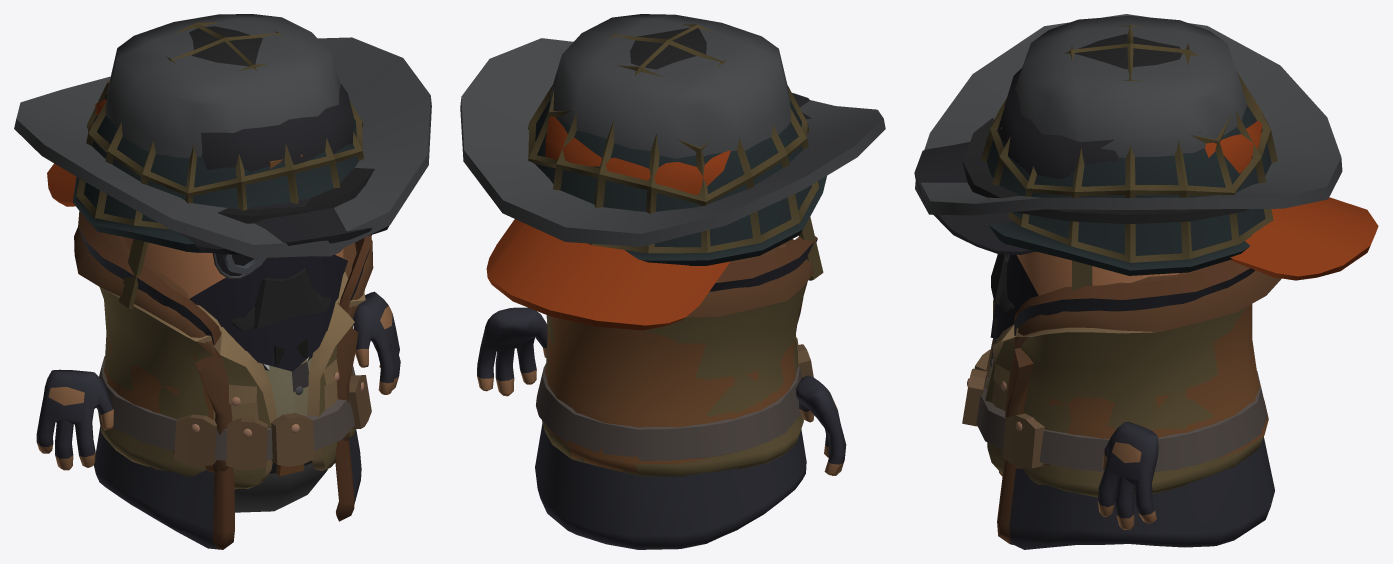
Rendered from Characters.fbx.
The picture shows the model from 3 angles, left to right: view 1: azimuth 30°, elevation 25°; view 2: azimuth 150°, elevation 25°; view 3: azimuth 270°, elevation 25°; orthographic projection. The views are drawn at different scales.
Visible parts, largest first — view 1: Character_Cap_02, Shirt_04, Character_Cap_05, Shirt_02, Character_Cap_01, Shirt_01, Moustache_03, Hand_01_R, Character_Base, Character_Cap_03, Hand_01_L, Moustache_02 (+2 smaller); view 2: Character_Cap_02, Shirt_04, Character_Cap_05, Shirt_02, Shirt_01, Character_Cap_04, Hand_01_L, Hand_01_R, Character_Cap_03; view 3: Character_Cap_02, Shirt_04, Character_Cap_05, Shirt_02, Shirt_01, Character_Cap_04, Character_Cap_01, Character_Cap_03, Hand_01_L, Character_Base, Moustache_03, Moustache_02.
Part boxes in pixels (x1,y1,x2,y2): Character_Cap_02: [14, 14, 431, 258]; Shirt_04: [98, 253, 371, 489]; Character_Cap_05: [72, 22, 363, 309]; Shirt_02: [78, 211, 371, 549]; Character_Cap_01: [178, 83, 389, 254]; Shirt_01: [74, 226, 373, 472]; Moustache_03: [189, 254, 347, 371]; Hand_01_R: [36, 369, 113, 470]; Character_Base: [119, 236, 343, 512]; Character_Cap_03: [189, 26, 374, 223]; Hand_01_L: [353, 291, 400, 394]; Moustache_02: [253, 268, 324, 328]; Character_Cap_02: [460, 14, 885, 246]; Shirt_04: [536, 245, 813, 476]; Character_Cap_05: [528, 24, 826, 280]; Shirt_02: [535, 236, 817, 549]; Shirt_01: [545, 239, 813, 474]; Character_Cap_04: [486, 116, 730, 330]; Hand_01_L: [477, 307, 547, 396]; Hand_01_R: [795, 375, 846, 475]; Character_Cap_03: [630, 27, 811, 119]; Character_Cap_02: [915, 14, 1342, 215]; Shirt_04: [962, 300, 1267, 497]; Character_Cap_05: [980, 25, 1277, 290]; Shirt_02: [997, 260, 1274, 549]; Shirt_01: [987, 263, 1281, 468]; Character_Cap_04: [1204, 104, 1378, 280]; Character_Cap_01: [914, 68, 1200, 254]; Character_Cap_03: [962, 34, 1248, 224]; Hand_01_L: [1098, 422, 1158, 529]; Character_Base: [1017, 251, 1179, 295]; Moustache_03: [990, 254, 1038, 338]; Moustache_02: [991, 254, 1007, 304].
Bounding box in the file's own units: 1.72 × 2.09 × 1.83.
